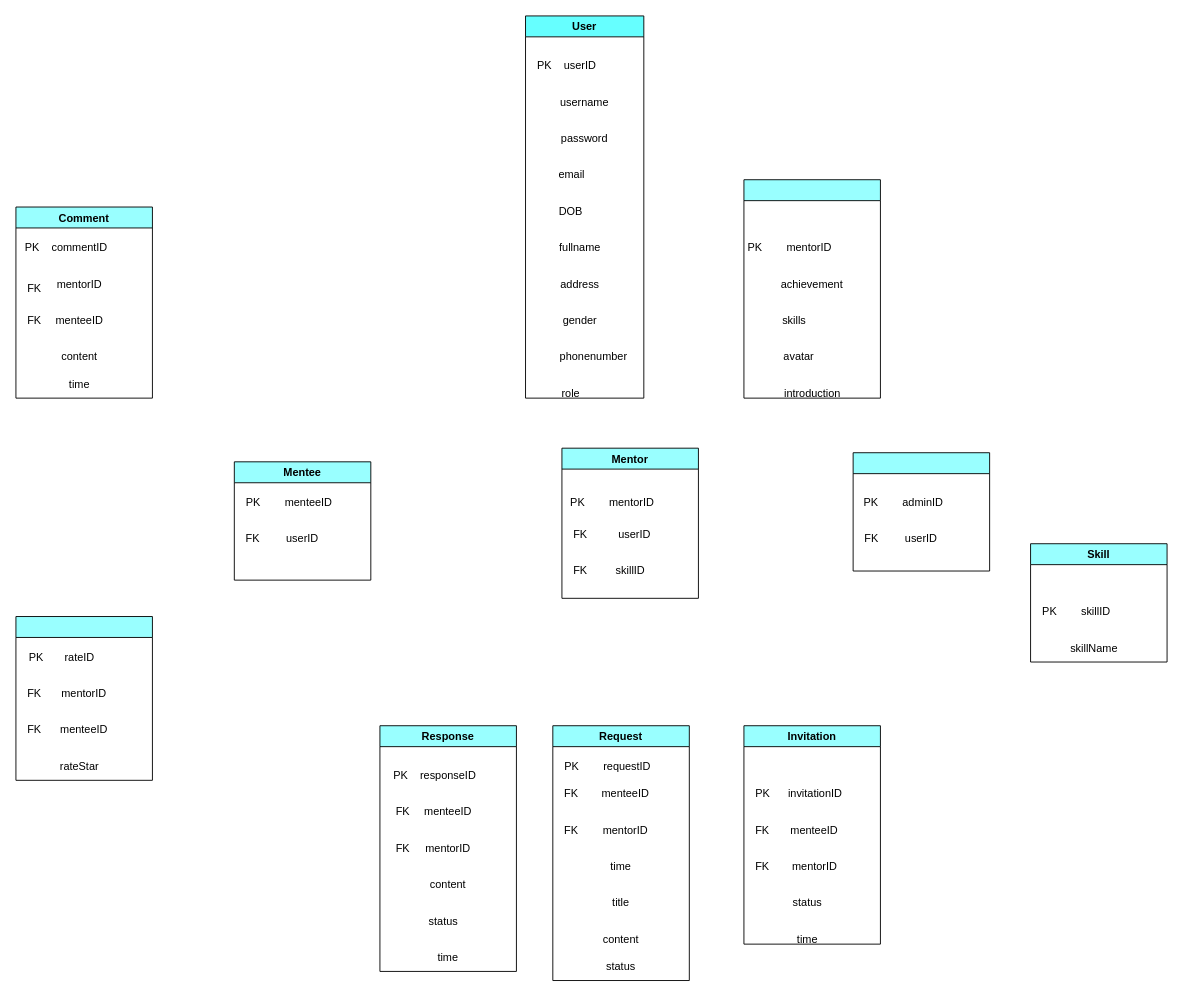
This 1183x996 diagram has some shape labels left out. The shapes that lost their labels are listed below. From the top down, each one's box as (x1, y1, x2, y2) in pixels, then its label:
(743, 179, 880, 398): Profile
(852, 452, 990, 571): Amin
(15, 616, 152, 780): Rating
